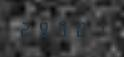nine: (35, 20, 51, 37), (52, 20, 68, 37)
one: (86, 20, 102, 37)
two: (18, 20, 34, 37)
zero: (69, 20, 85, 37)
